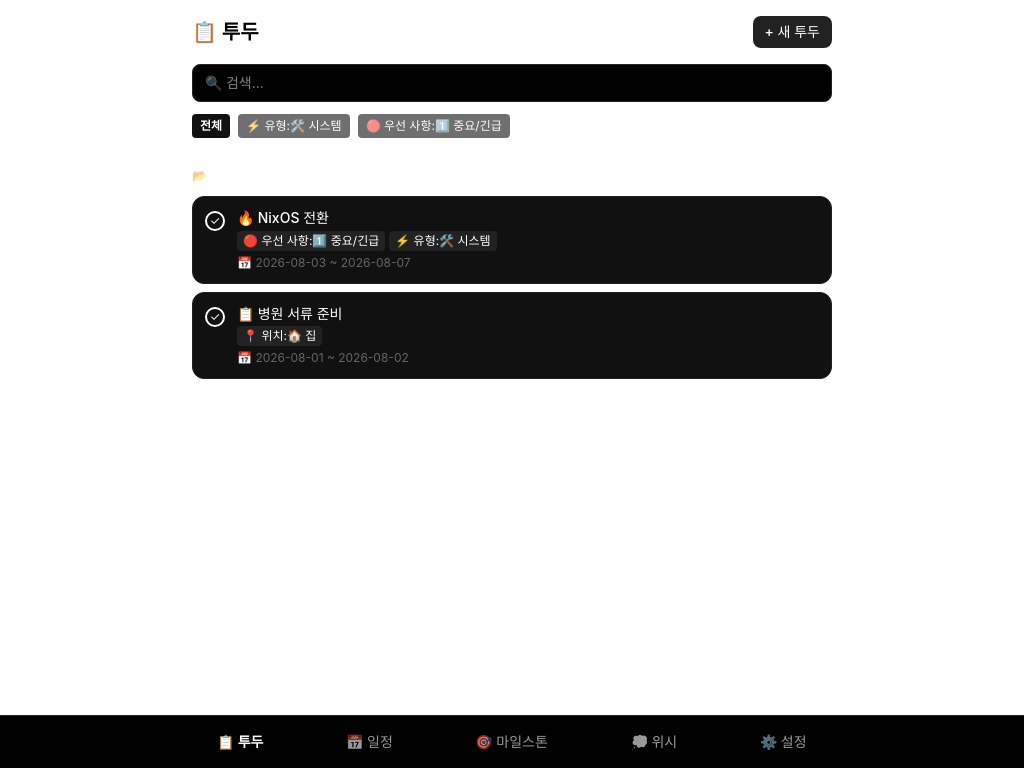
Scenario: TodoPage › filters by search keyword
Expected: the heading "🔥 NixOS 전환" is shown, [237,209,329,226]
Type "병원" into the field with placeholder "🔍 검색...". click: x=512, y=83
box: [192,64,832,102]
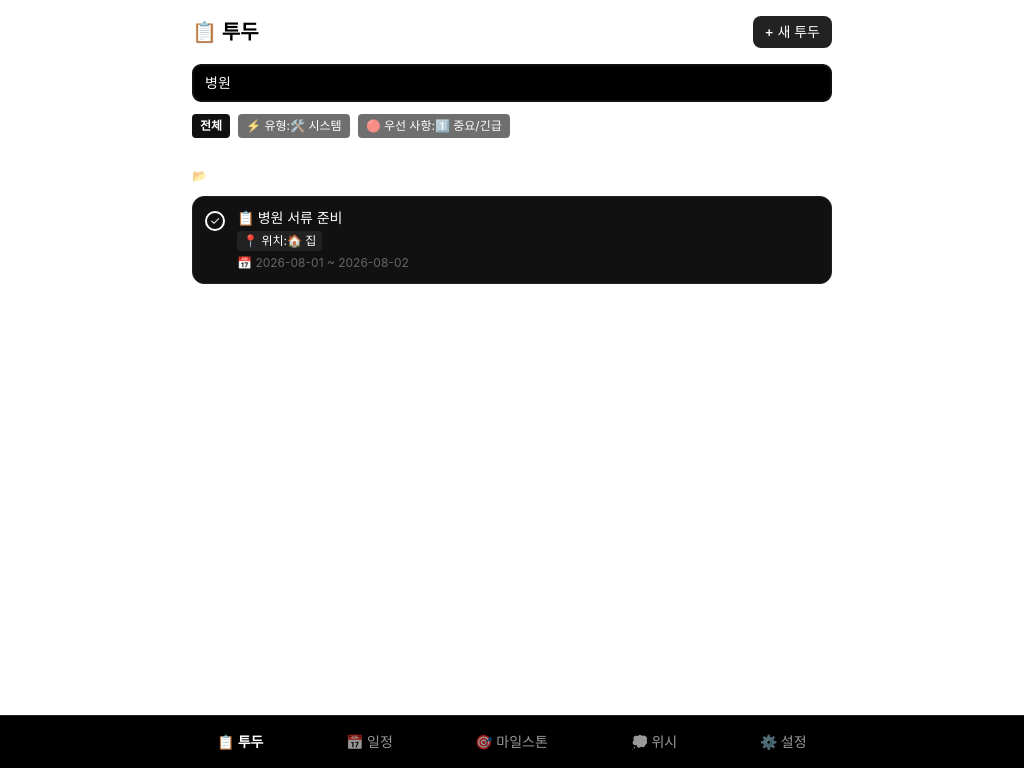
Expected: the heading "📋 병원 서류 준비" is shown, [237,209,342,226]
Result: the heading "🔥 NixOS 전환" is gone
